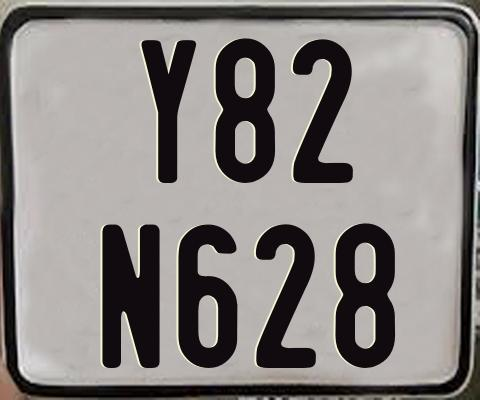2: (291, 39, 355, 187), (256, 221, 320, 366)
6: (176, 221, 236, 370)
8: (214, 37, 280, 188), (333, 221, 398, 367)
N: (99, 224, 158, 372)
Y: (141, 39, 198, 187)
